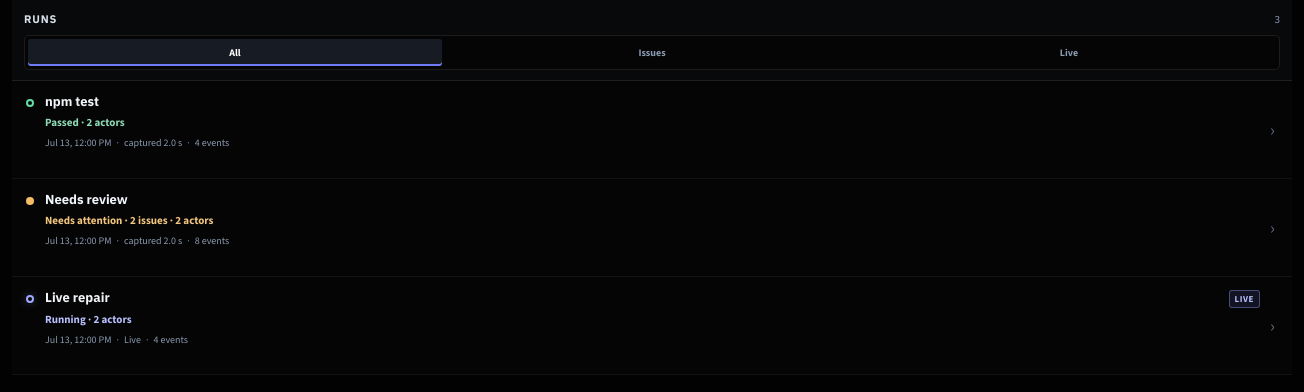
Test case: TraceList › filters run navigation by issues and live state
Click the button "Issues". click: {"x": 652, "y": 52}
box: [445, 39, 859, 66]
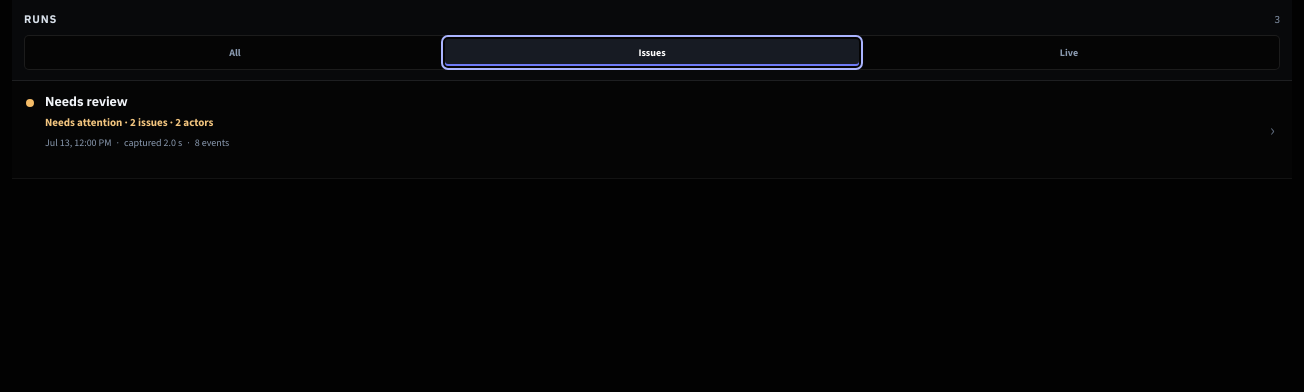
Expected: the text "Needs review" is shown, [45, 93, 128, 110]
Click the button "Live". click: {"x": 1069, "y": 52}
box: [862, 39, 1276, 66]
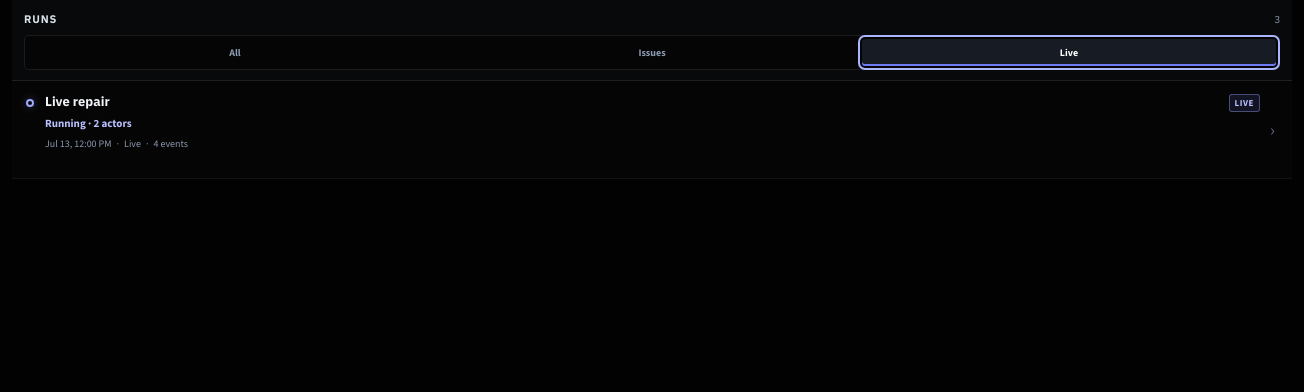
Expected: the text "Live repair" is shown, [45, 93, 110, 110]
